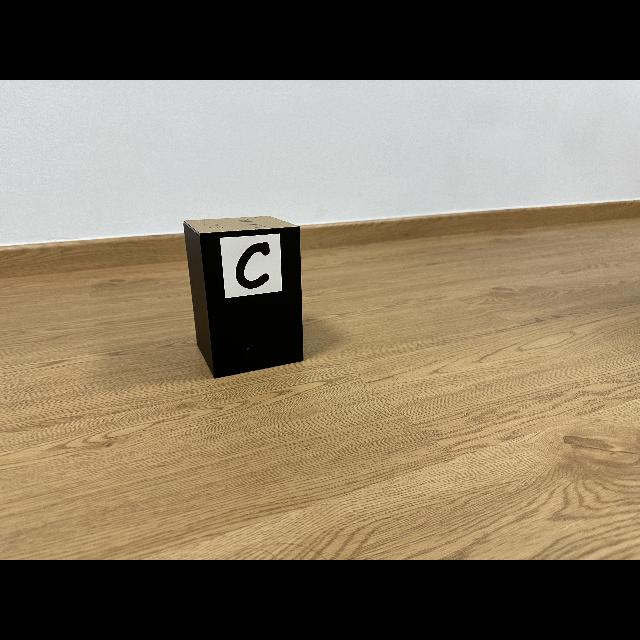C: (235, 242, 270, 289)
